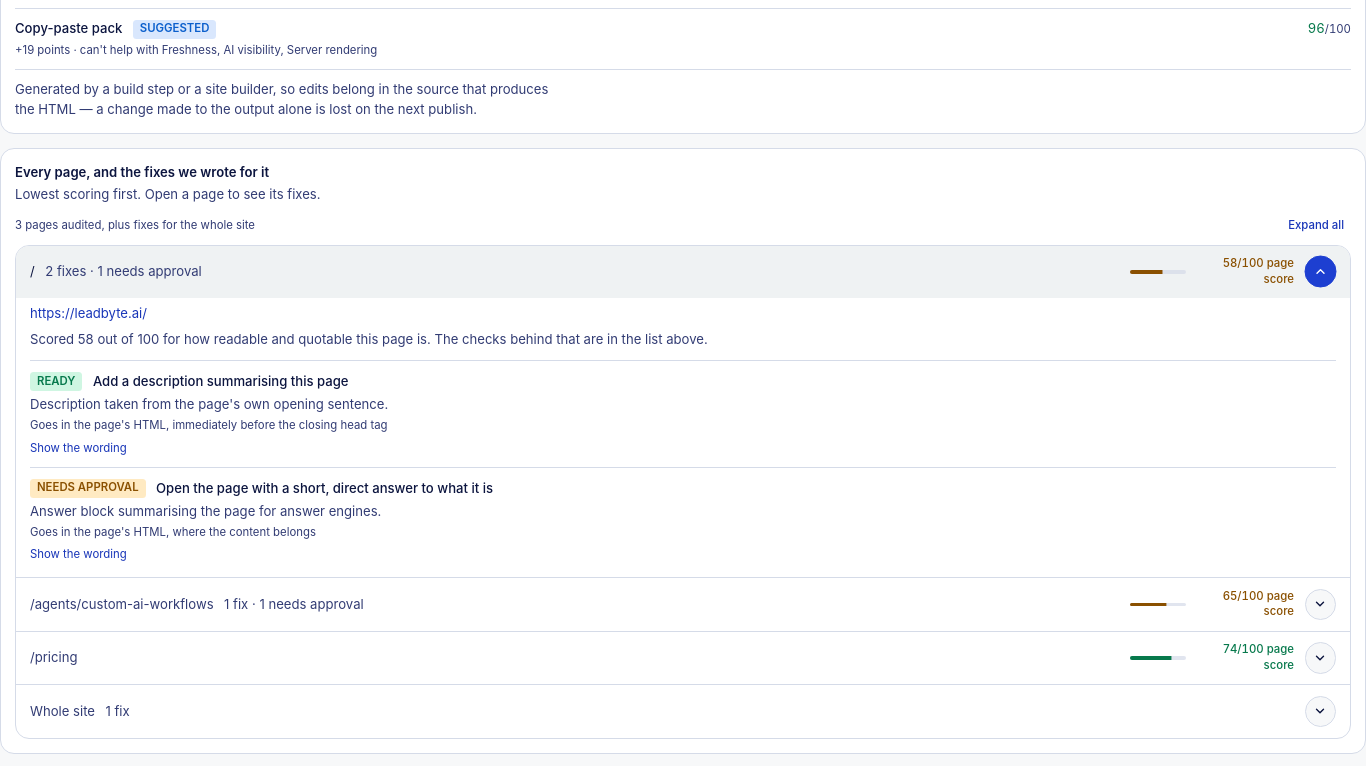
Scenario: the fixes, and the routes to the site › gives the site-wide sitemap a row of its own rather than dropping it
(page scrolled)
Click the button "Whole site 1 fix".
click(62, 711)  # box [16,685,1350,738]
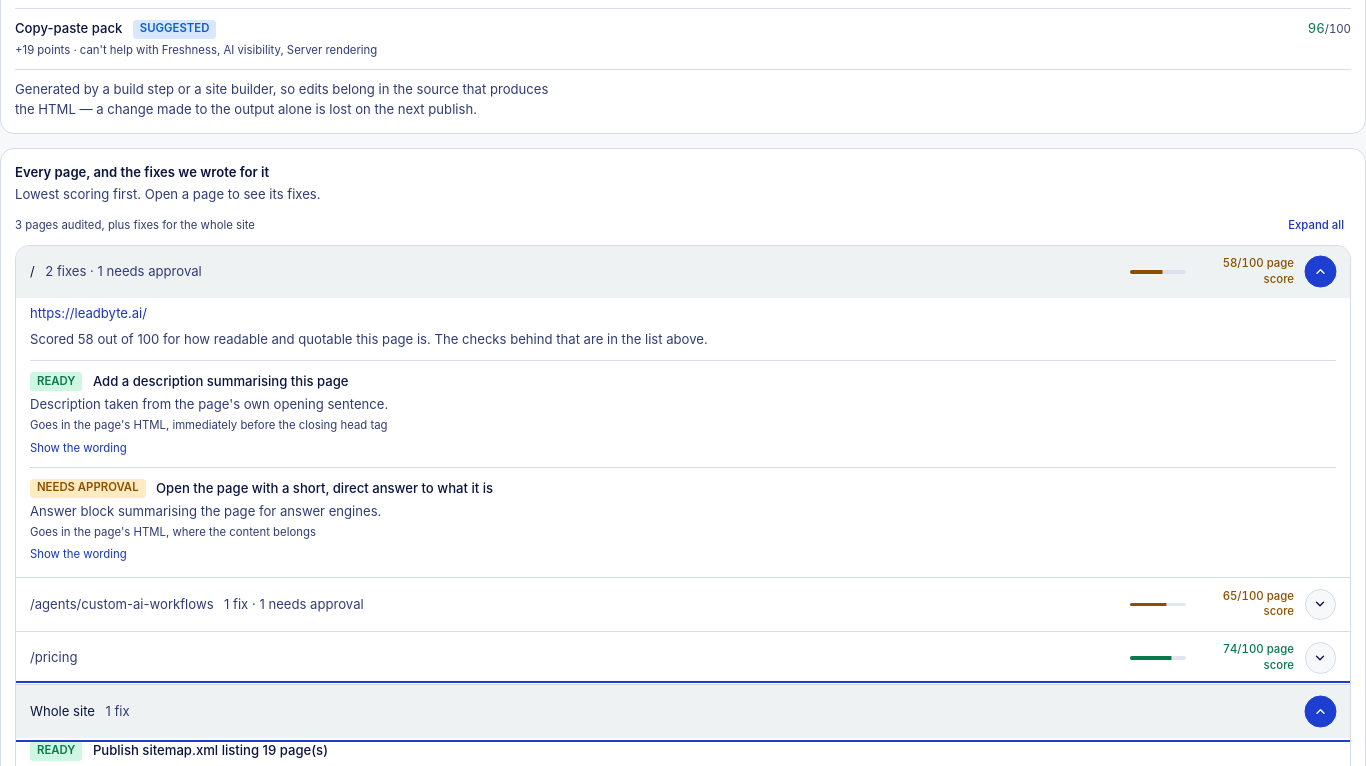
Now the text "Publish sitemap.xml listing 19 page(s)" is shown, box [93,741,328,761]
